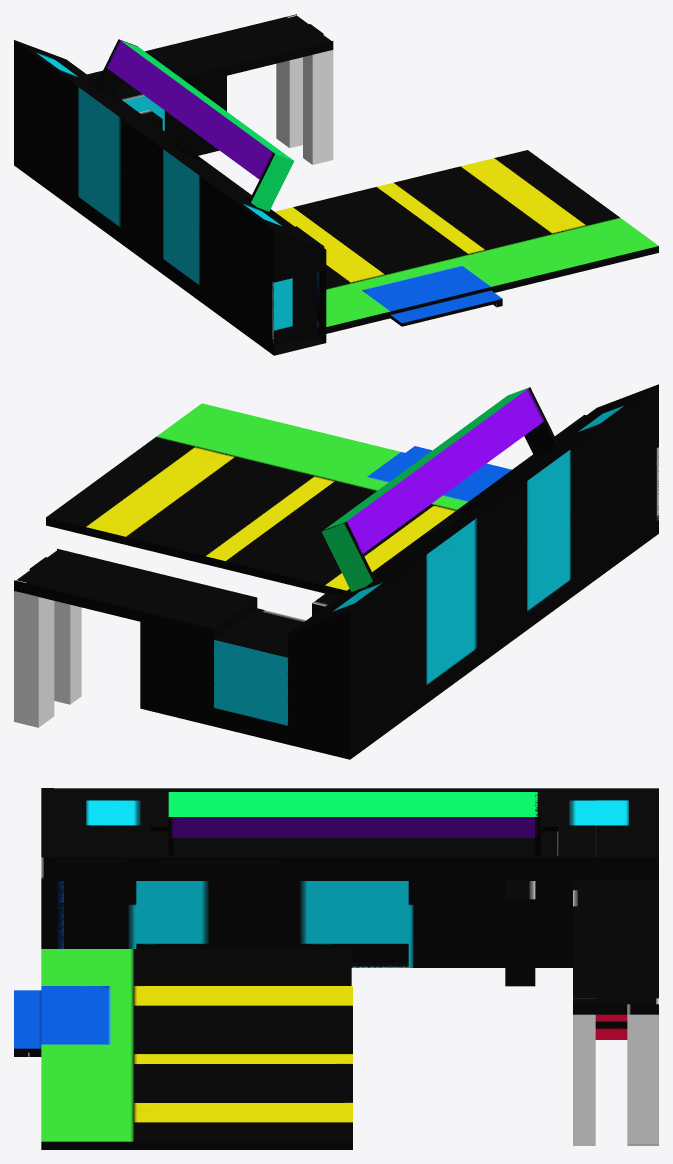
File: house no 5 do 8 .fbx
The picture shows the model from 3 angles, top to bottom: view 1: azimuth 30°, elevation 25°; view 2: azimuth 150°, elevation 25°; view 3: azimuth 270°, elevation 25°; orthographic projection. The views are drawn at different scales.
Visible parts, largest first — view 1: Cube; view 2: Cube; view 3: Cube.
Part boxes in pixels (x1=…): Cube: x1=14, y1=14, x2=658, y2=355; Cube: x1=14, y1=384, x2=658, y2=759; Cube: x1=14, y1=788, x2=658, y2=1149.
Bounding box in the file's own units: 2817 × 1304 × 3443.
